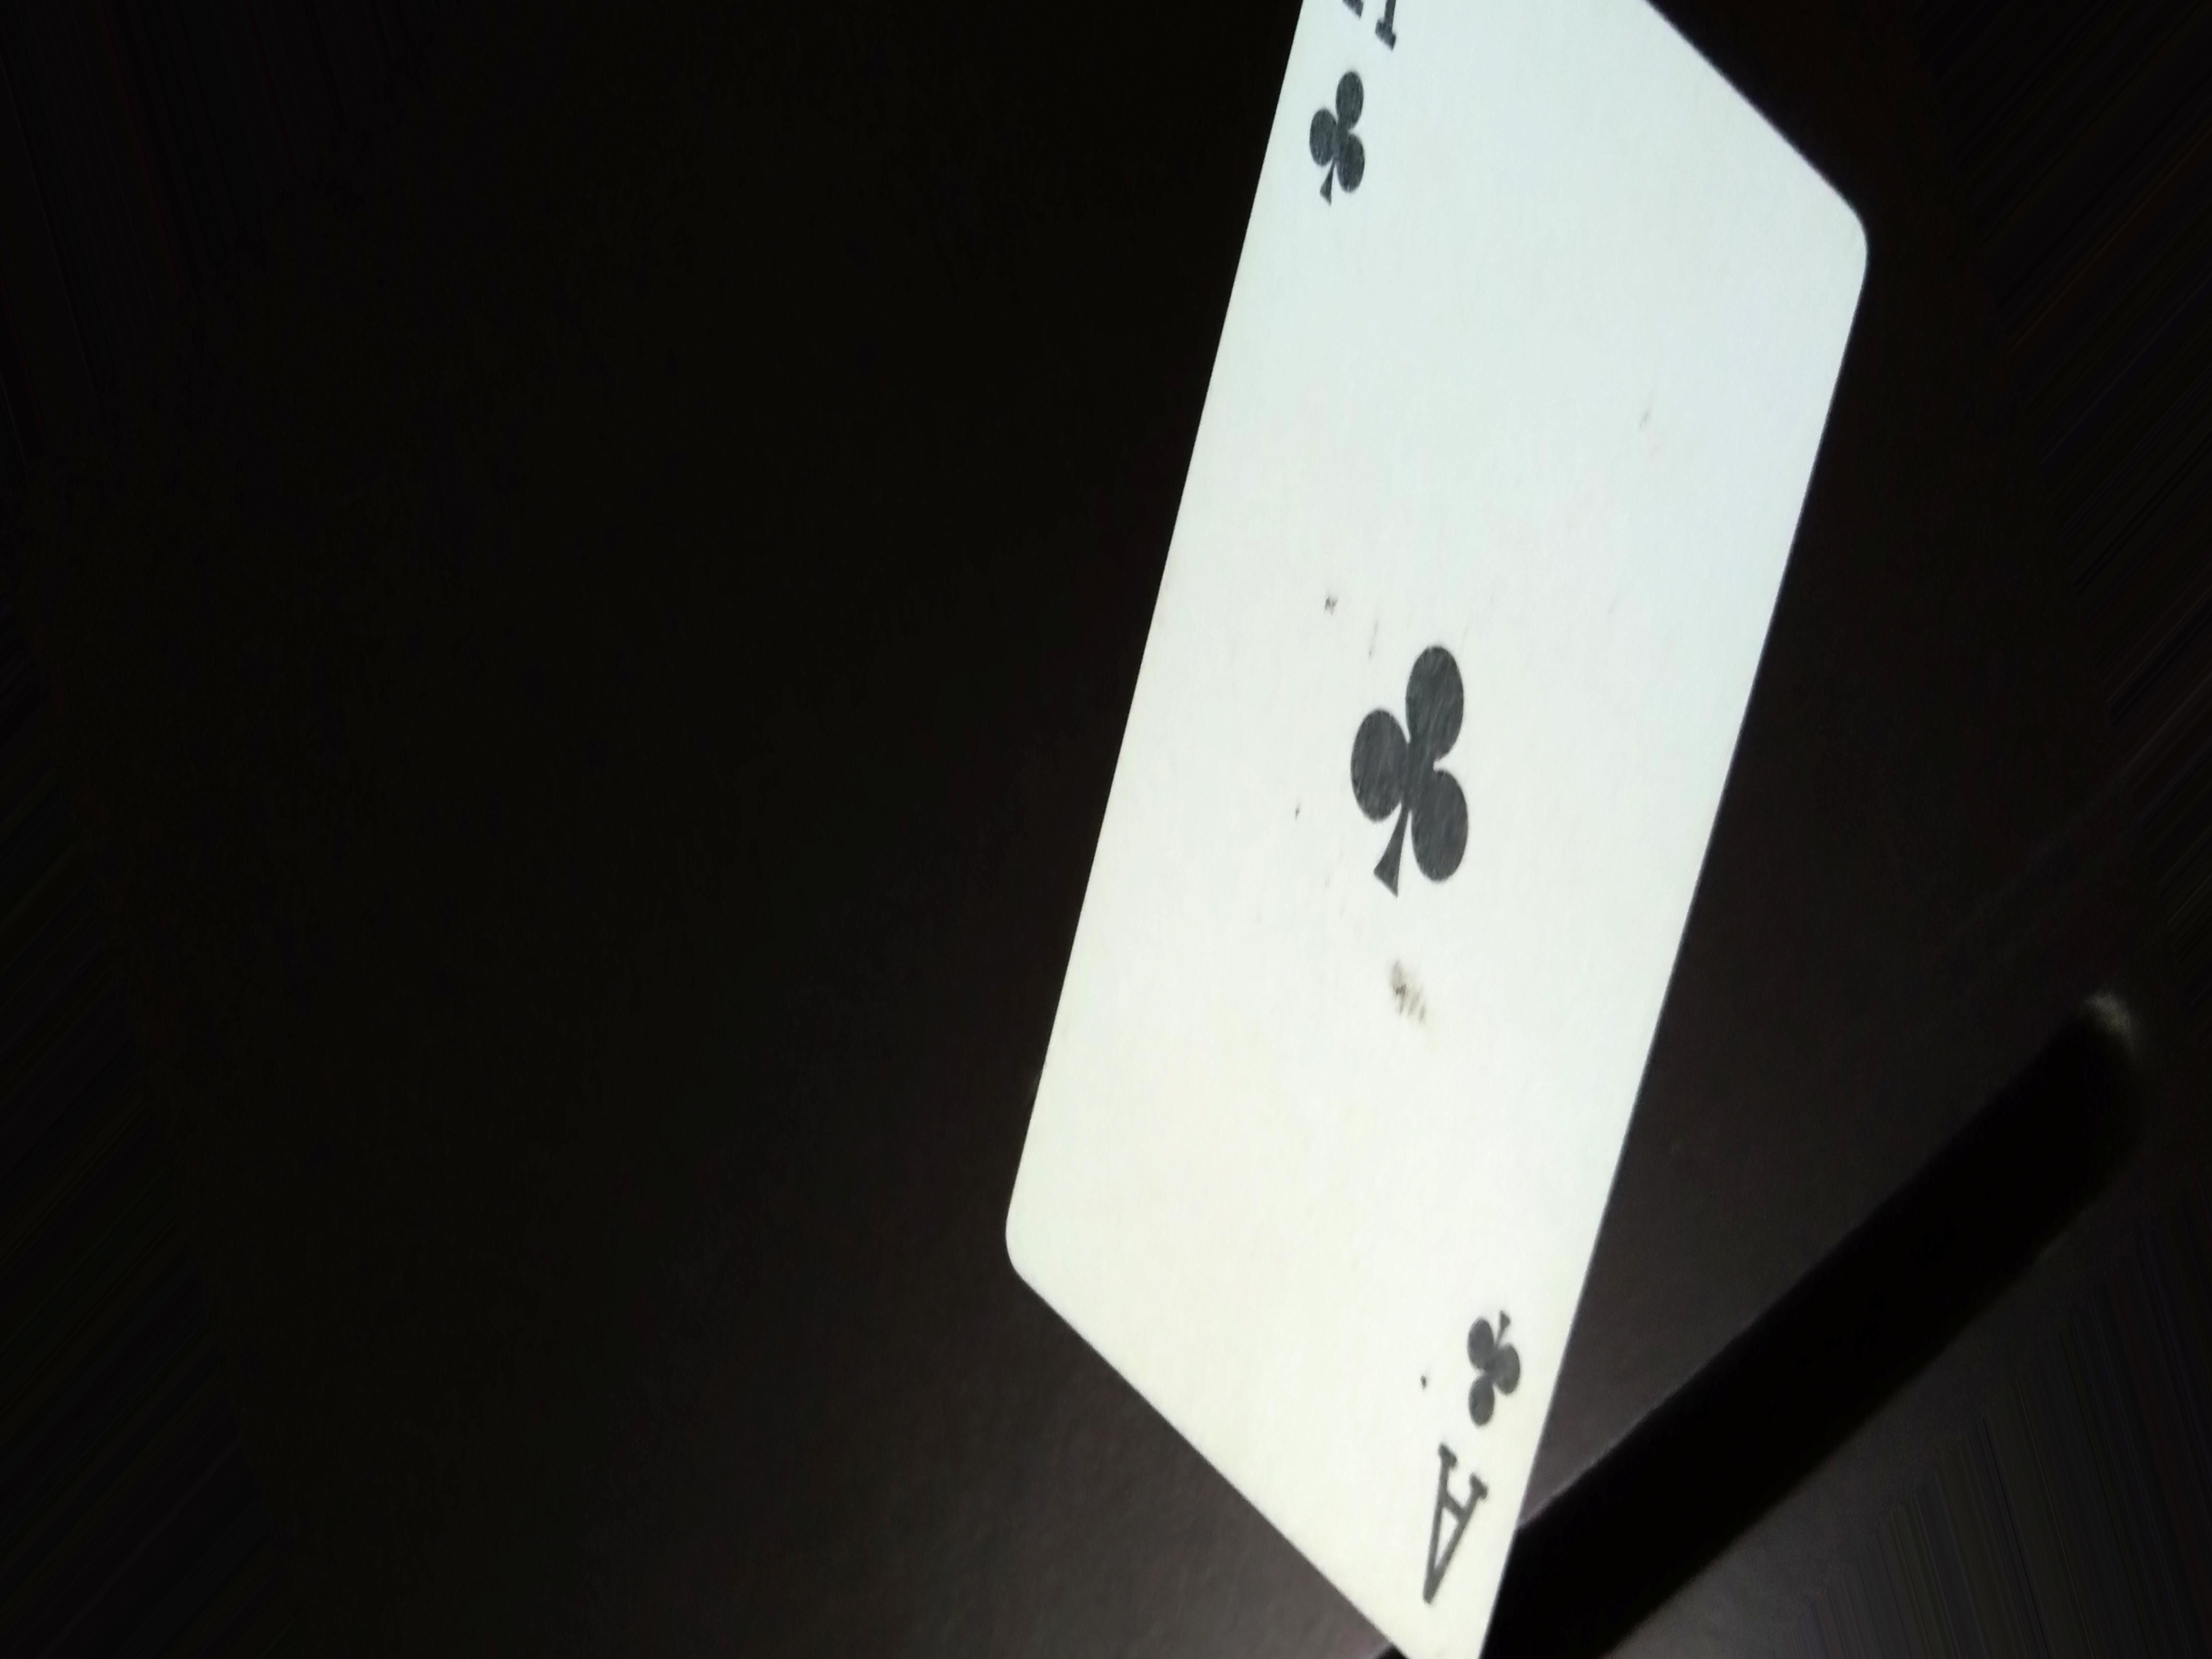AC: (1407, 1300, 1536, 1619)
